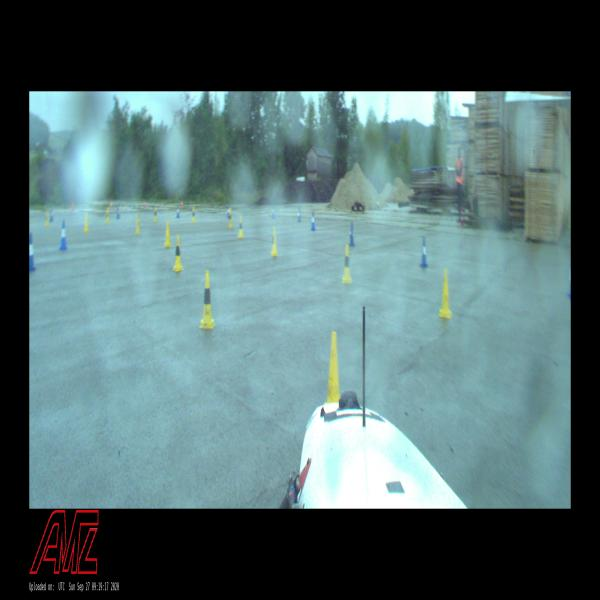blue_cone: (29, 234, 36, 270), (420, 237, 427, 265), (60, 219, 66, 249), (348, 223, 353, 245), (310, 212, 315, 229), (568, 259, 570, 296), (297, 208, 301, 221), (176, 205, 180, 218), (117, 204, 120, 219), (227, 206, 230, 217), (272, 206, 274, 217)
orange_cone: (110, 199, 112, 210)
yellow_cone: (326, 332, 339, 400), (200, 270, 214, 328), (439, 270, 452, 318), (173, 236, 183, 270), (342, 245, 351, 282), (270, 228, 278, 256), (164, 222, 171, 246), (238, 215, 244, 238), (84, 214, 89, 231), (136, 213, 140, 234), (228, 208, 232, 228), (153, 206, 157, 222), (191, 206, 195, 222), (45, 211, 49, 225), (106, 209, 109, 222)
